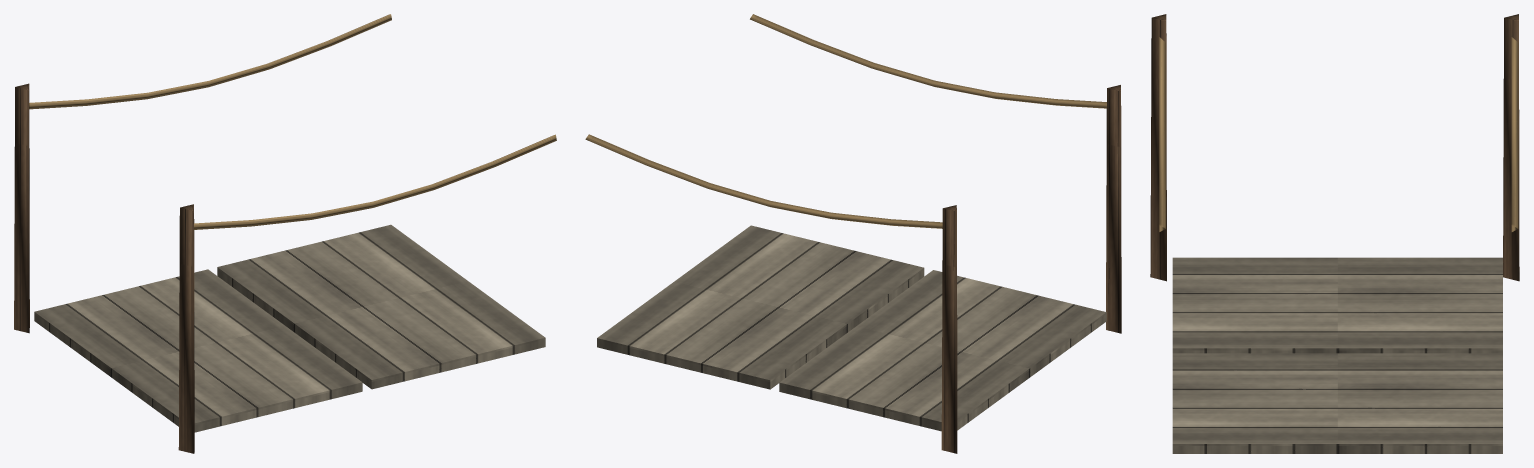
Rendered from Bridge_Rope_Deck_1_LOD2.gltf.
The picture shows the model from 3 angles, left to right: view 1: azimuth 30°, elevation 25°; view 2: azimuth 150°, elevation 25°; view 3: azimuth 270°, elevation 25°; orthographic projection. The views are drawn at different scales.
Visible parts, largest first — view 1: Bridge_Rope_Deck_1_LOD2; view 2: Bridge_Rope_Deck_1_LOD2; view 3: Bridge_Rope_Deck_1_LOD2.
Part boxes in pixels (box(x1,y1,x2,y2)): Bridge_Rope_Deck_1_LOD2: box(14, 14, 556, 453); Bridge_Rope_Deck_1_LOD2: box(585, 14, 1121, 453); Bridge_Rope_Deck_1_LOD2: box(1150, 14, 1519, 453).
Bounding box in the file's own units: 2.1 × 1.3 × 1.68.
3 materials, 3 textured.
